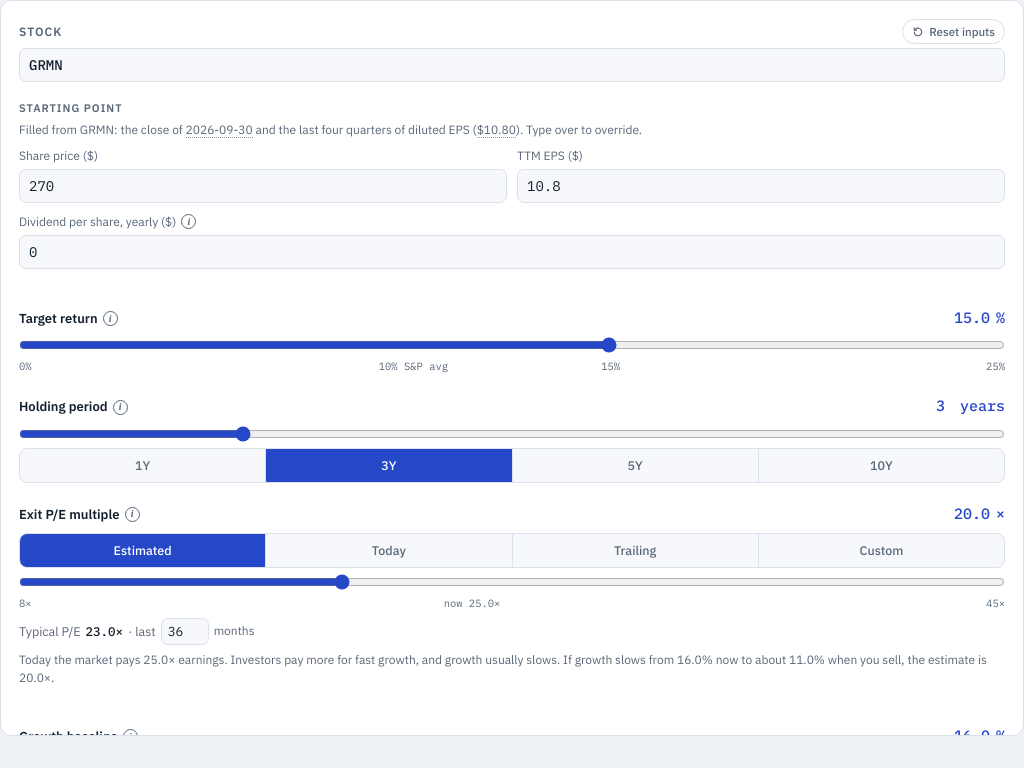
Test: target return › moves the slider when the user types a value
The width and height of the screenshot is (1024, 768).
Replace the text in the number field named "Target return, percent a year" with "12" at point(961, 318), box [927,305,995,331]
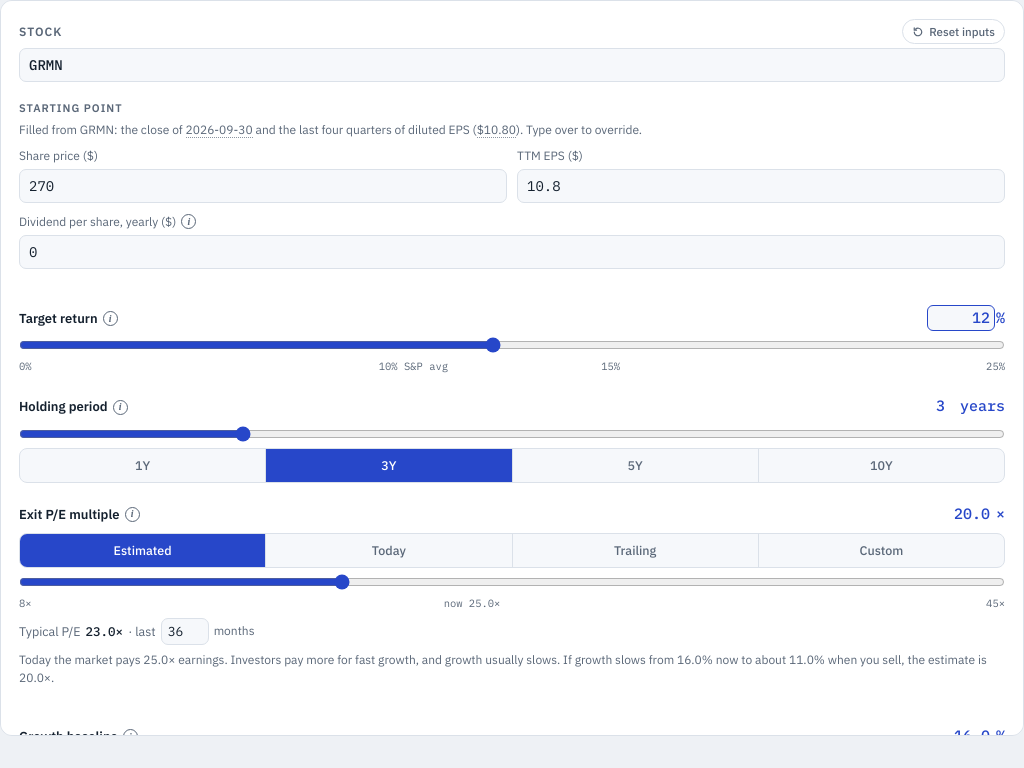
Check: the slider labelled "Target return" holds "12", box [19,337,1005,353]
